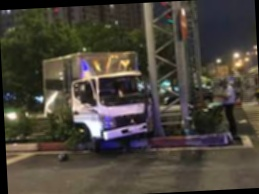Bien-so: (120, 122, 136, 131)
